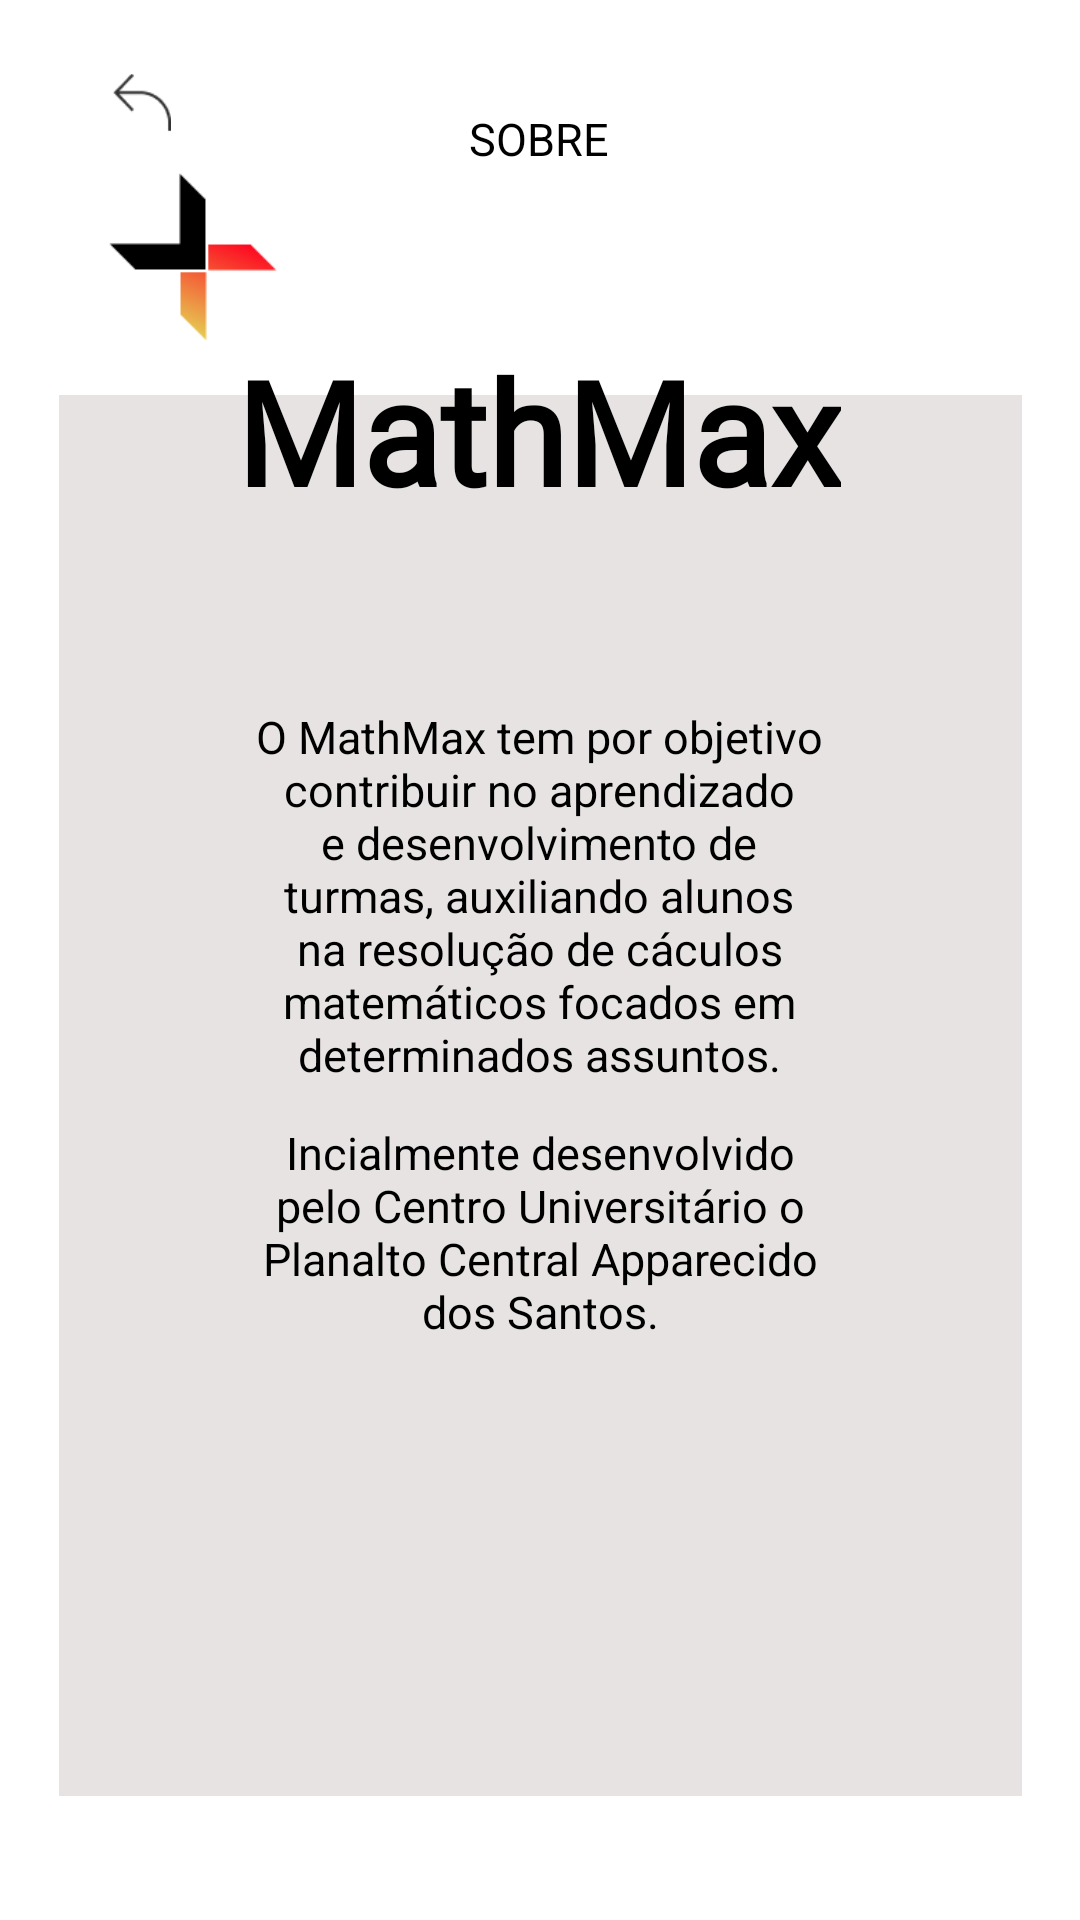

Locate icon controls on the screen. Image size 1080×1920, boxes as (x1, y1, x2, y2).
back: (113, 74, 171, 131)
